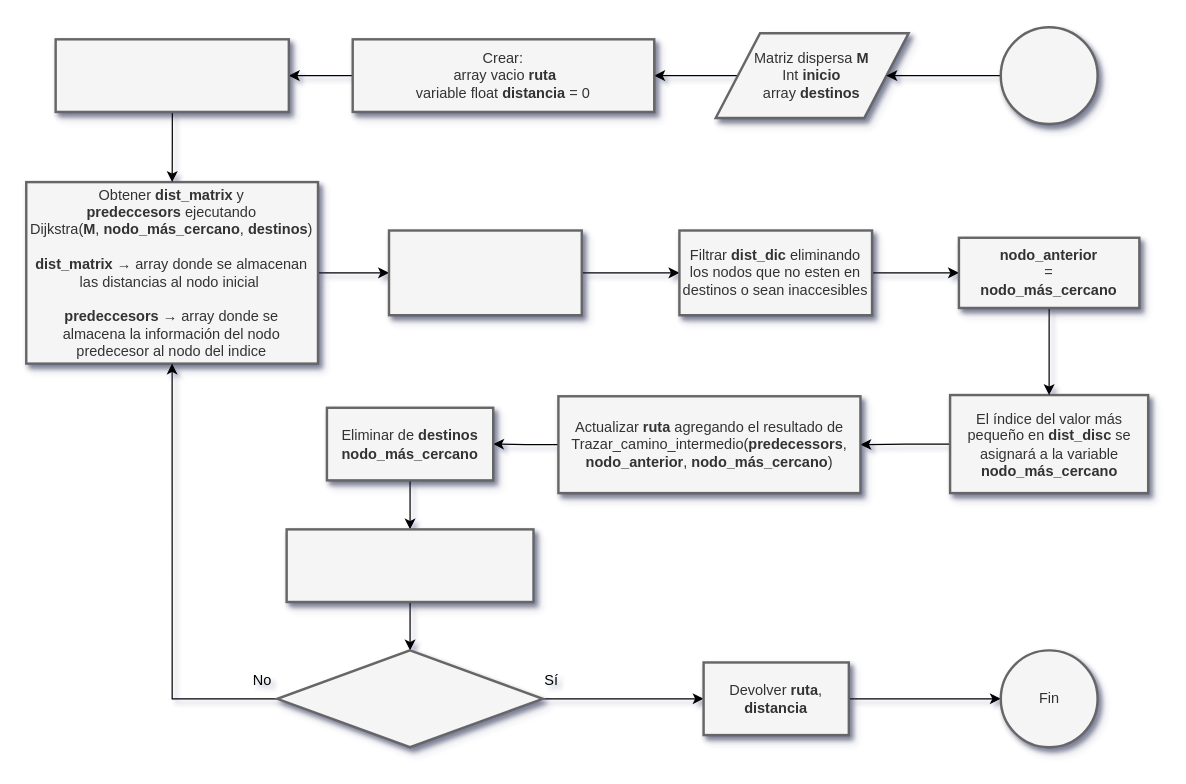
The diagram is 1186 pixels wide and 784 high, and some of its shapes have lost their labels. Each missing label, with the centre of its shape:
"Crear diccionario dist_dic con las distancias de cada nodo respecto a inicio" goes at (x=486, y=274).
"Empezar" goes at (x=1049, y=77).
"nodo_más_cercano = inicio" goes at (x=173, y=77).
"Sumar a distancia dist_matrix ( nodo_más_cercano )" goes at (x=410, y=567).
"¿ destinos está vacío?" goes at (x=411, y=700).
